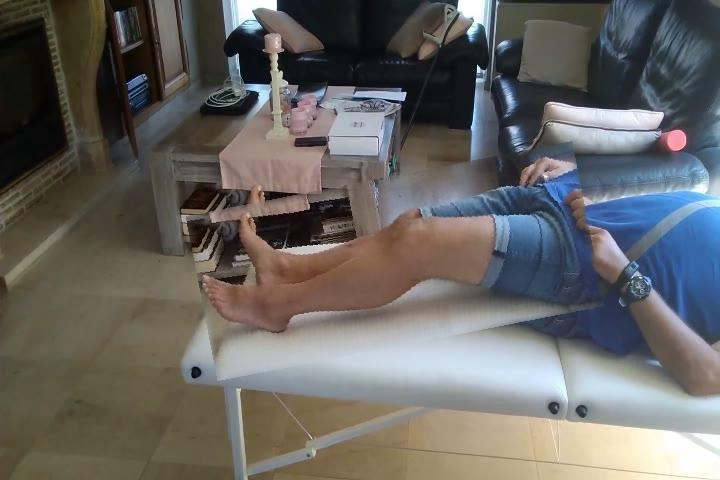lowerbody: (193, 160, 599, 364)
